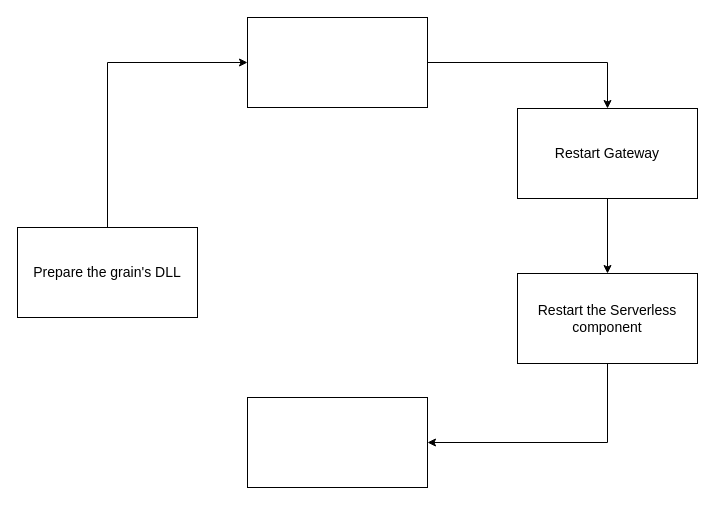
Some shapes in this 715 by 505 pixel diagram are drawn without their labels. Here are the shapes that lost their labels. From the top down, the box of each, then its label:
(246, 16, 428, 108): Upload the DLL to Digital Silo's storage account
(246, 396, 428, 488): Start submitting the grain's payloads
